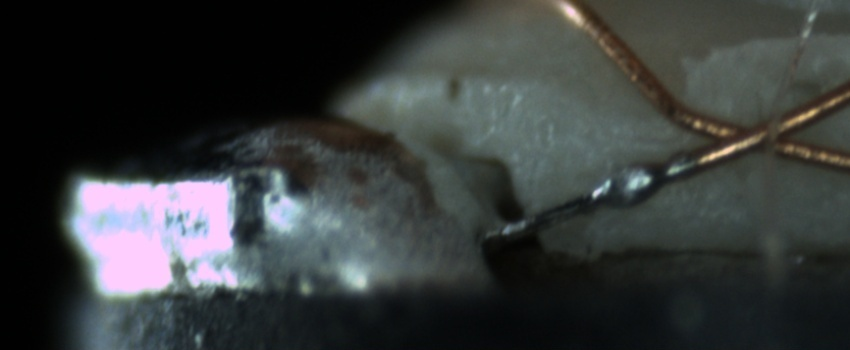CL: (680, 97, 842, 161)
DL: (605, 116, 733, 161)
TB: (606, 158, 665, 216)
TS: (486, 152, 701, 242)
TTCW: (500, 139, 747, 238)
